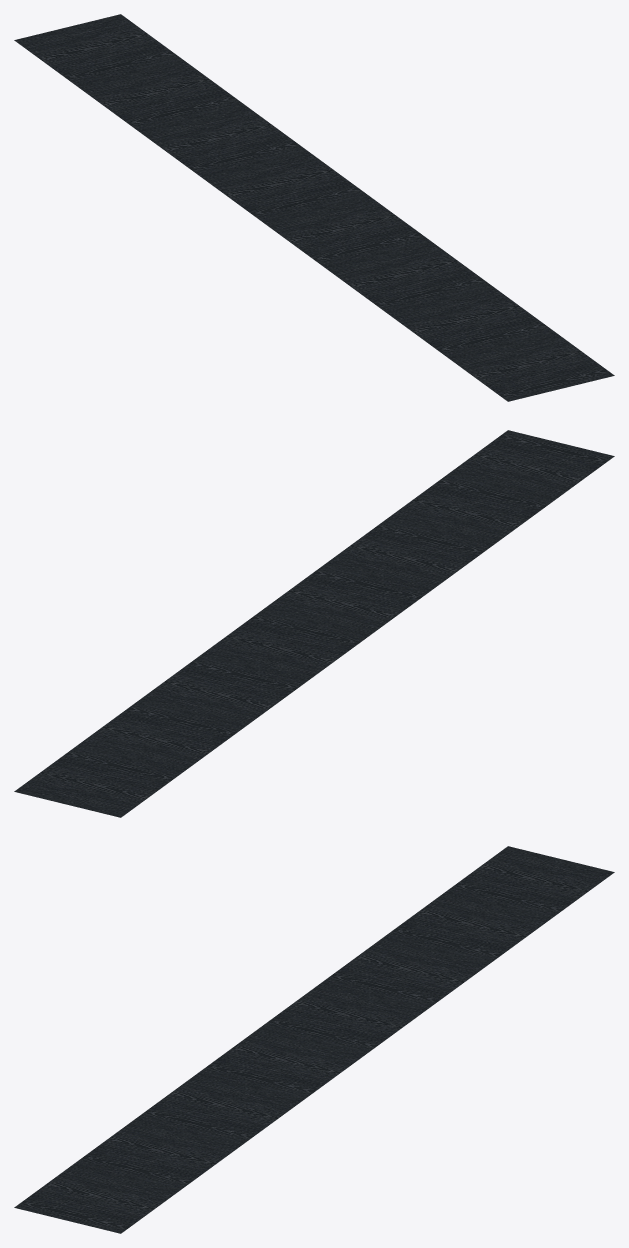
File: GYM_Ceiling_2.fbx
The picture shows the model from 3 angles, top to bottom: view 1: azimuth 30°, elevation 25°; view 2: azimuth 150°, elevation 25°; view 3: azimuth 330°, elevation 25°; orthographic projection.
Visible parts, largest first — view 1: GYM_Ceiling_Panel_7; view 2: GYM_Ceiling_Panel_7; view 3: GYM_Ceiling_Panel_7.
Boxes of the visible parts, x1,y1,x2,y2 form: GYM_Ceiling_Panel_7: (14, 14, 614, 401); GYM_Ceiling_Panel_7: (14, 430, 614, 817); GYM_Ceiling_Panel_7: (14, 846, 614, 1233).
Size of the model in its own units: 0.5 by 8.88e-16 by 4.
1 material, 1 textured.
